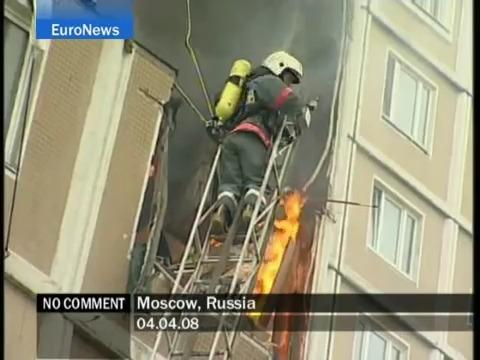fire: (253, 188, 309, 295), (208, 236, 223, 248)
